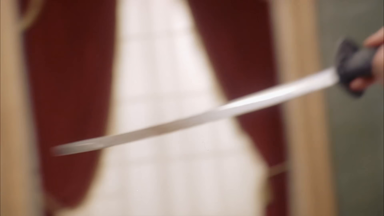bladed_weapon: (43, 34, 383, 156)
